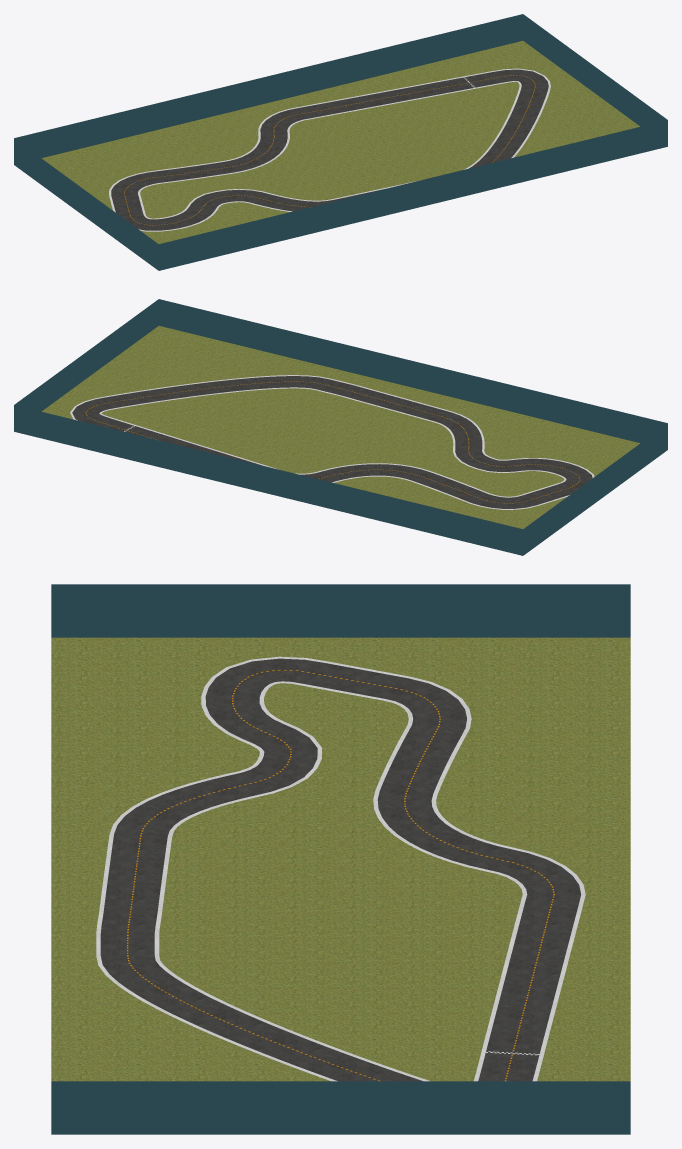
File: arctic_open_cw.dae
3 renders of one model, top to bottom at view 1: azimuth 30°, elevation 25°; view 2: azimuth 150°, elevation 25°; view 3: azimuth 270°, elevation 25°, orthographic. The views are drawn at different scales.
Visible parts, largest first — view 1: field, wall, road, ol, il, cl; view 2: field, wall, road, ol, il, cl; view 3: field, wall, road, il, ol, cl.
Part boxes in pixels (x1,y1,x2,y2): field: (42, 41, 639, 243); wall: (14, 14, 667, 270); road: (111, 69, 548, 230); ol: (138, 81, 521, 219); il: (109, 68, 550, 231); cl: (124, 75, 535, 225); field: (42, 326, 639, 528); wall: (14, 299, 667, 555); road: (72, 376, 592, 509); ol: (99, 387, 566, 497); il: (70, 375, 594, 509); cl: (85, 381, 579, 503); field: (51, 637, 630, 1081); wall: (51, 584, 630, 1134); road: (100, 658, 581, 1081); il: (96, 656, 585, 1081); ol: (154, 681, 527, 1081); cl: (127, 669, 554, 1081).
Size of the model in its own units: 19.93 by 9.82 by 1.
Materials: 7 (7 with a texture image).
